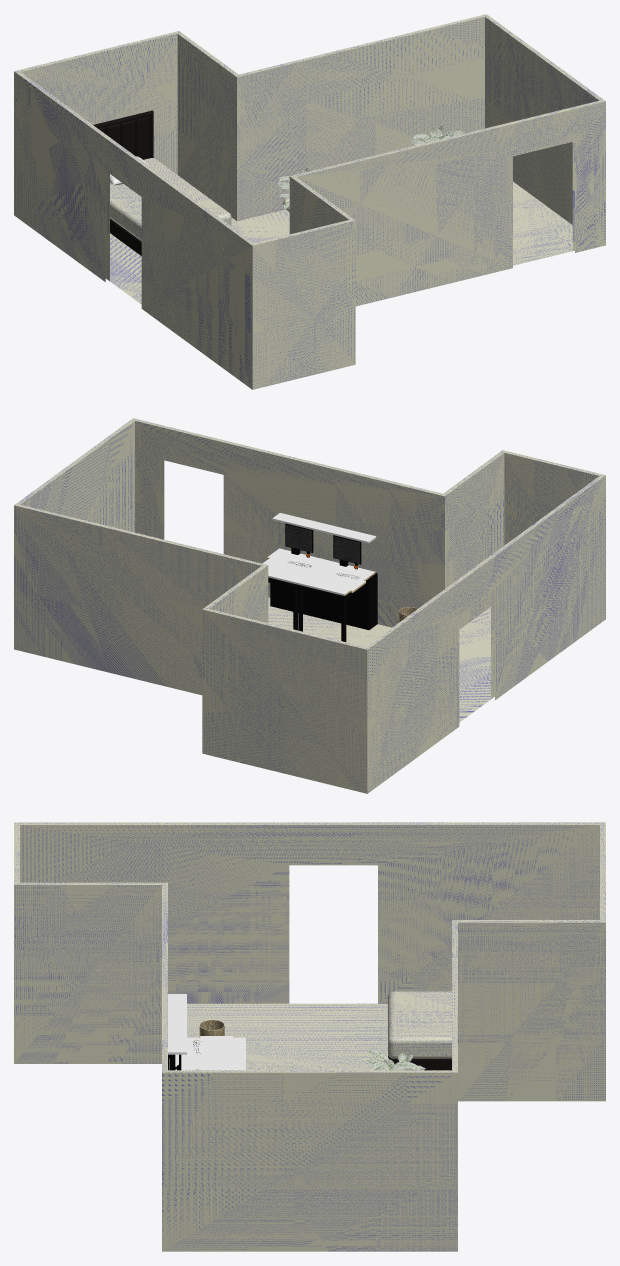
File: 7ecn35n3.dae
The picture shows the model from 3 angles, top to bottom: view 1: azimuth 30°, elevation 25°; view 2: azimuth 150°, elevation 25°; view 3: azimuth 270°, elevation 25°; orthographic projection. The views are drawn at different scales.
Parts seen in each view (by area): view 1: SketchUp, Queen_Mattress, group_6, Queen_Box_Spring; view 2: SketchUp, i-rise_2-seat_Row (×3), _0750_i-rise_desk_-_IRI-5229-_3D_ (×2), _19_Monitor_-_19_Monitor-8592-_3D_ (×2); view 3: SketchUp, Queen_Mattress, _0750_i-rise_desk_-_IRI-5229-_3D_, i-rise_2-seat_Row.
Part boxes in pixels (box(x1,y1,x2,y2)): SketchUp: box(14, 14, 605, 389); Queen_Mattress: box(110, 158, 231, 240); group_6: box(135, 116, 150, 159); Queen_Box_Spring: box(110, 218, 141, 255); SketchUp: box(14, 418, 605, 793); i-rise_2-seat_Row (×3): box(270, 513, 377, 629); _0750_i-rise_desk_-_IRI-5229-_3D_ (×2): box(262, 553, 367, 595); _19_Monitor_-_19_Monitor-8592-_3D_ (×2): box(286, 524, 359, 563); SketchUp: box(14, 822, 605, 1251); Queen_Mattress: box(388, 991, 451, 1058); _0750_i-rise_desk_-_IRI-5229-_3D_: box(187, 1036, 245, 1066); i-rise_2-seat_Row: box(168, 994, 186, 1054).
Bounding box in the file's own units: 240 × 240 × 80.68.
